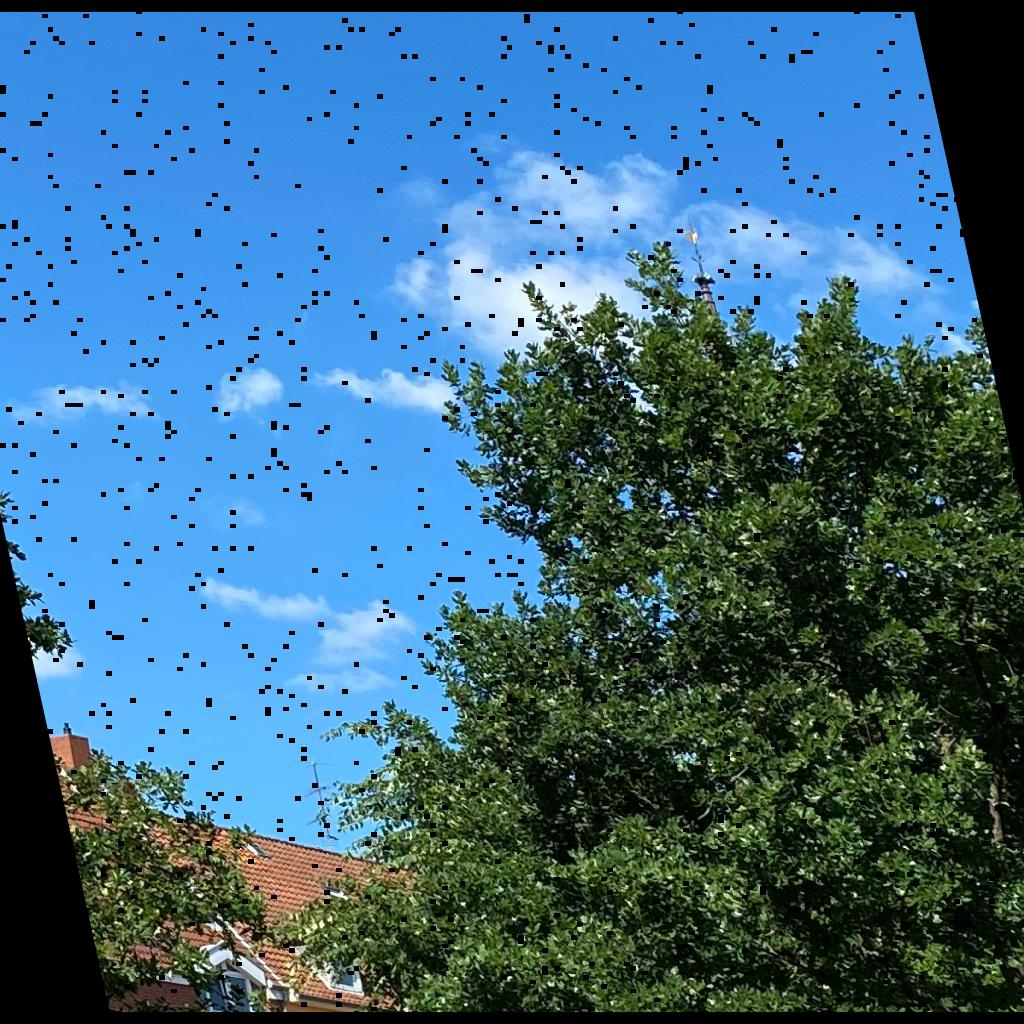tree: (269, 241, 1023, 1012), (53, 748, 268, 1011), (1, 490, 78, 660)
